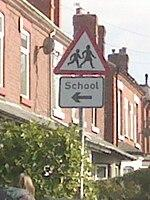School Ahead: (50, 22, 114, 114)
